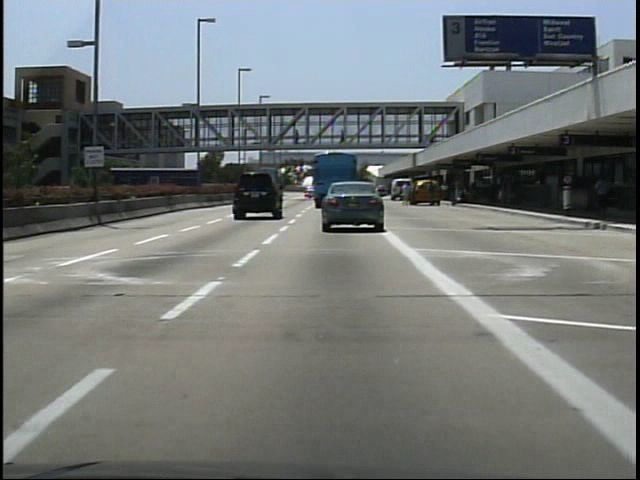person: (592, 171, 612, 217), (427, 178, 444, 211), (397, 180, 415, 209), (337, 128, 350, 152), (292, 125, 305, 146)
